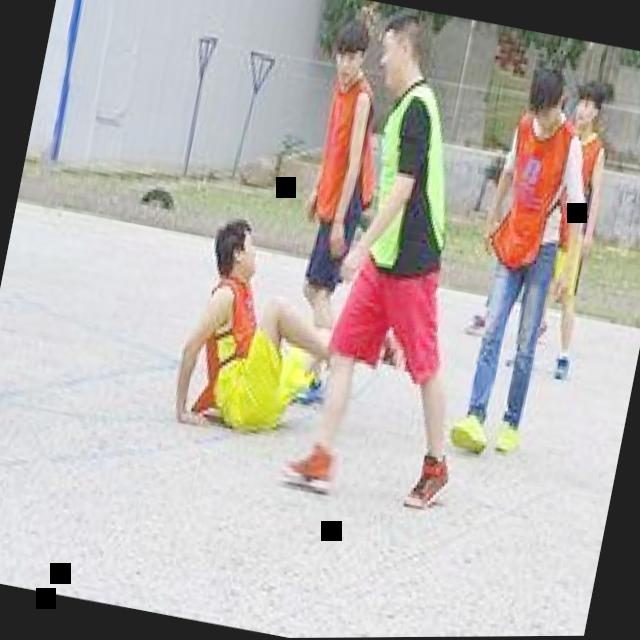Fall-Detected: (156, 194, 364, 447)
